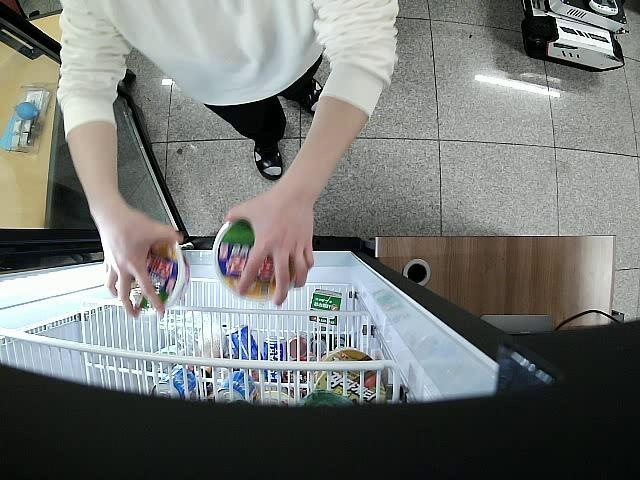09_yukGaeJang: (215, 217, 306, 302), (105, 234, 191, 312)
